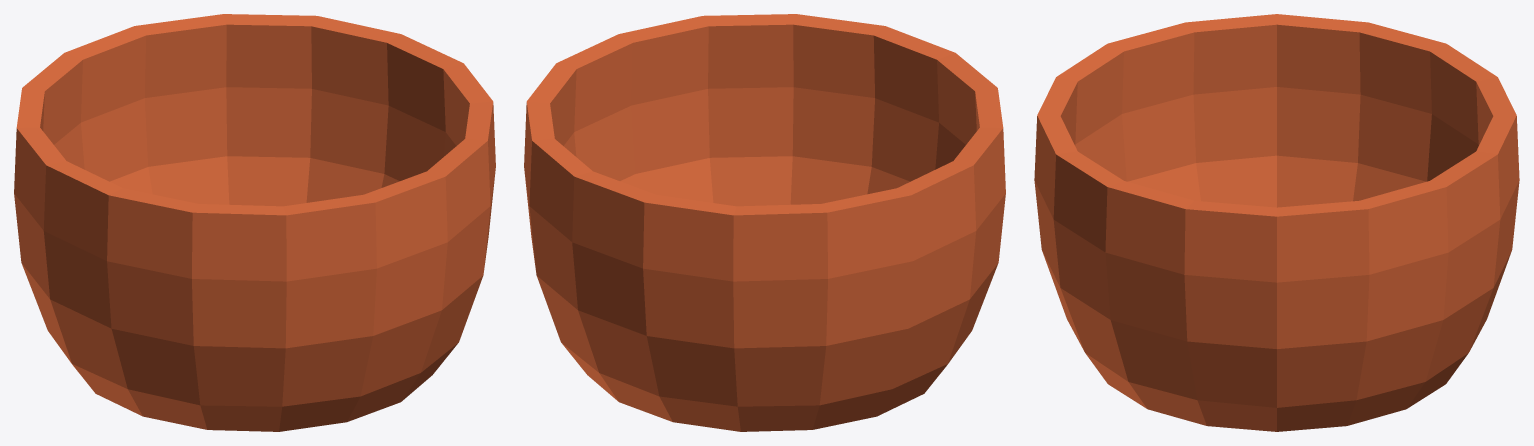
File: CeramicaObjeto2.fbx
The picture shows the model from 3 angles, left to right: view 1: azimuth 30°, elevation 25°; view 2: azimuth 150°, elevation 25°; view 3: azimuth 270°, elevation 25°; orthographic projection.
Visible parts, largest first — view 1: Base1; view 2: Base1; view 3: Base1.
Part boxes in pixels (bbox=[...]): Base1: bbox=[14, 14, 495, 431]; Base1: bbox=[524, 14, 1005, 431]; Base1: bbox=[1034, 14, 1519, 431].
Bounding box in the file's own units: 16.54 × 9 × 16.54.
Materials: 1 (1 with a texture image).
